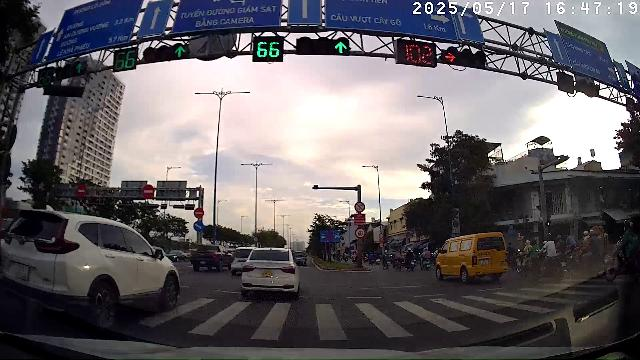127-toc-do-toi-da-60: (354, 227, 366, 239)
